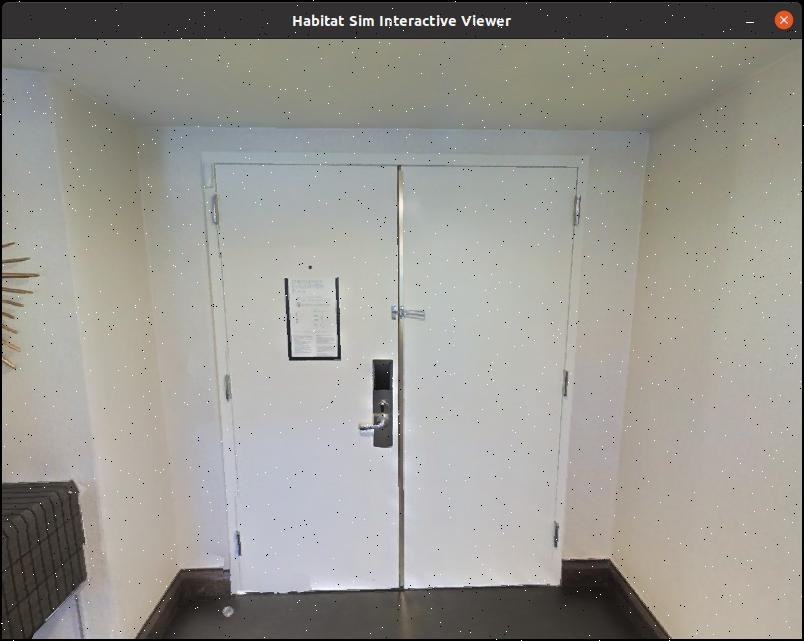door: (204, 160, 433, 603)
